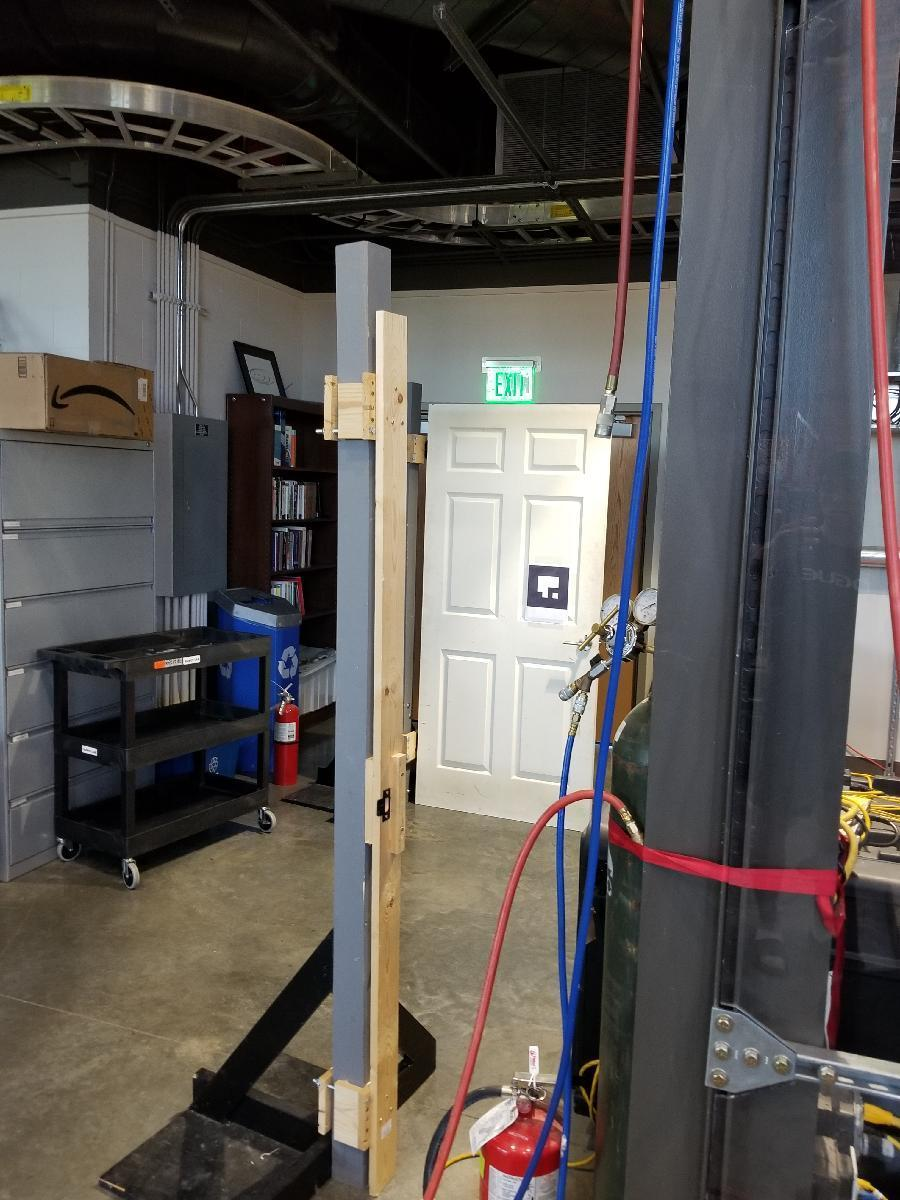door: (420, 408, 604, 827)
